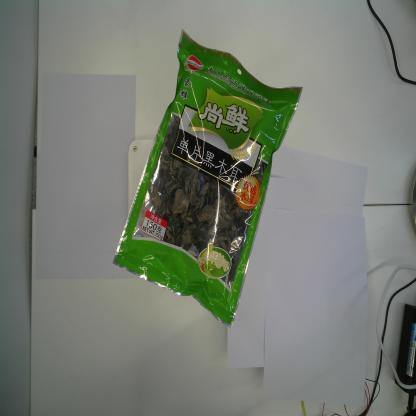Dried Food: (109, 27, 304, 330)
